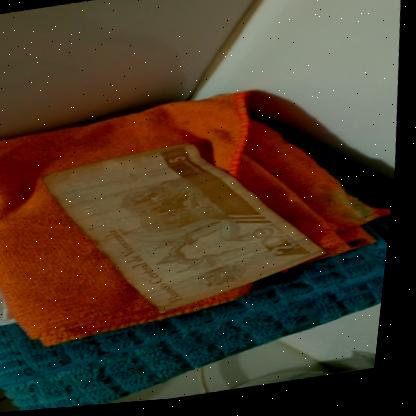five-back-vef: (31, 125, 346, 334)
